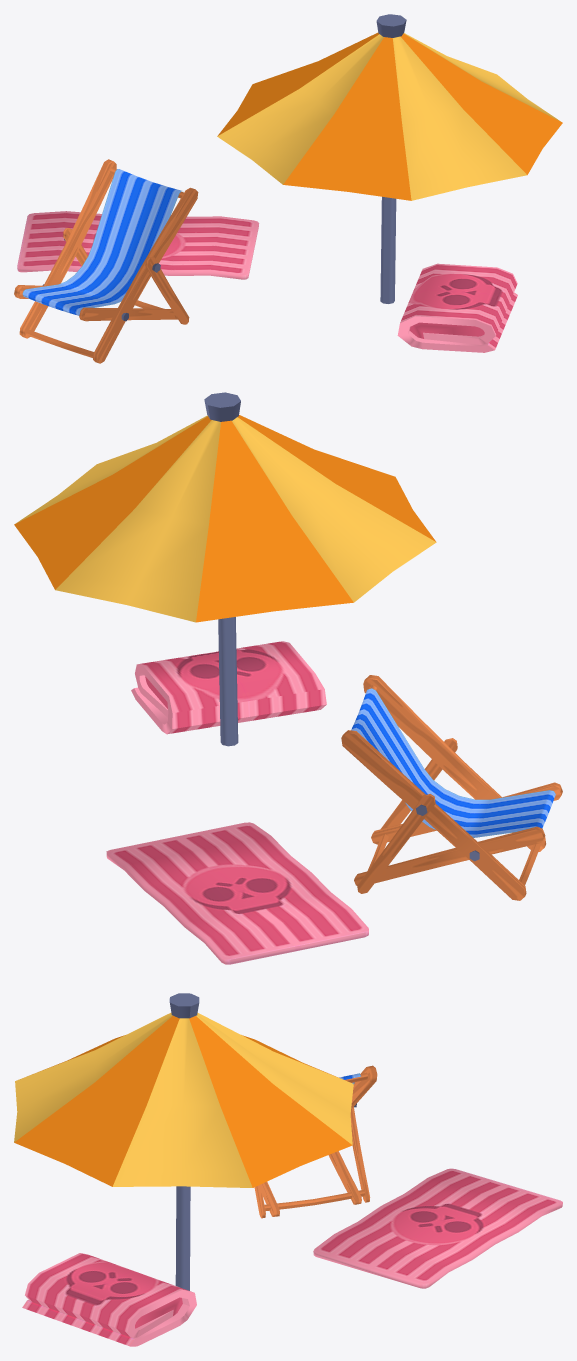
File: prop2.glb
3 renders of one model, top to bottom at view 1: azimuth 30°, elevation 25°; view 2: azimuth 150°, elevation 25°; view 3: azimuth 270°, elevation 25°, orthographic. The views are drawn at different scales.
Parts seen in each view (by area): view 1: beach_chair.004_generic_wood.001_0; view 2: beach_chair.004_generic_wood.001_0; view 3: beach_chair.004_generic_wood.001_0.
Boxes of the visible parts, left/top/right/bottom form: beach_chair.004_generic_wood.001_0: left=14, top=14, right=562, bottom=363; beach_chair.004_generic_wood.001_0: left=14, top=392, right=562, bottom=964; beach_chair.004_generic_wood.001_0: left=14, top=993, right=562, bottom=1346.
Size of the model in its own units: 5.97 by 3.62 by 5.9.
2 materials, 2 textured.
